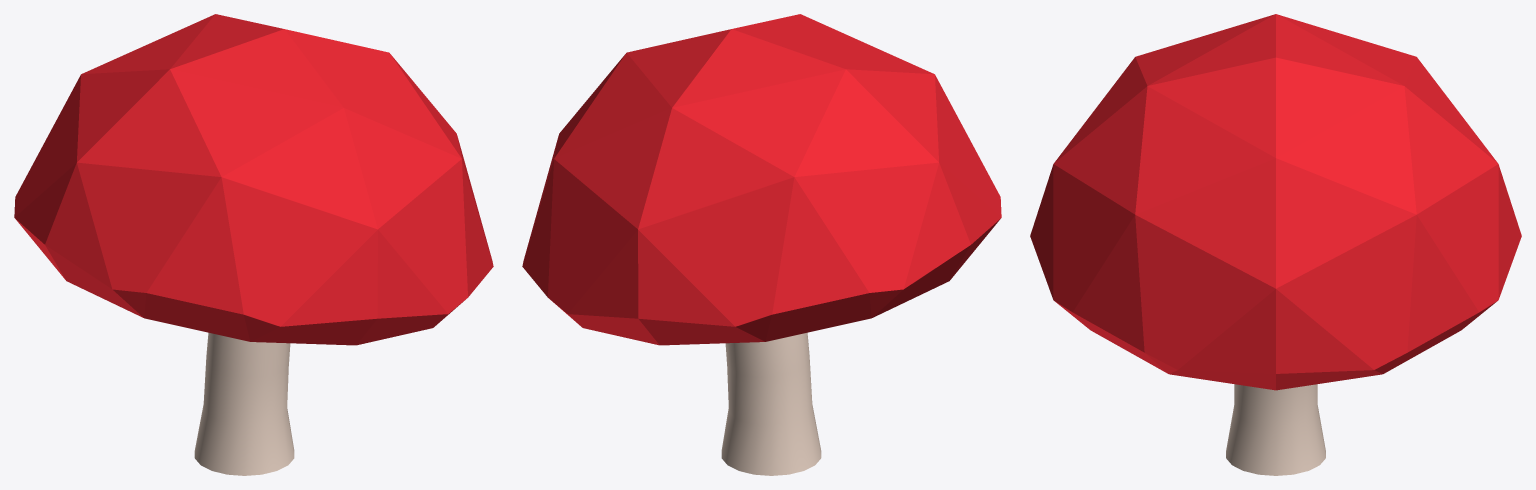
File: Mushroom1.fbx
3 renders of one model, left to right at view 1: azimuth 30°, elevation 25°; view 2: azimuth 150°, elevation 25°; view 3: azimuth 270°, elevation 25°, orthographic.
Visible parts, largest first — view 1: GeoSphere002, Cylinder001; view 2: GeoSphere002, Cylinder001; view 3: GeoSphere002, Cylinder001.
Part boxes in pixels (x1,y1,x2,y2): GeoSphere002: (14, 14, 493, 345); Cylinder001: (194, 332, 294, 475); GeoSphere002: (522, 14, 1001, 345); Cylinder001: (721, 332, 821, 475); GeoSphere002: (1030, 14, 1521, 390); Cylinder001: (1226, 384, 1325, 475).
Size of the model in its own units: 28.34 by 26.82 by 28.71.
1 material, 1 textured.
